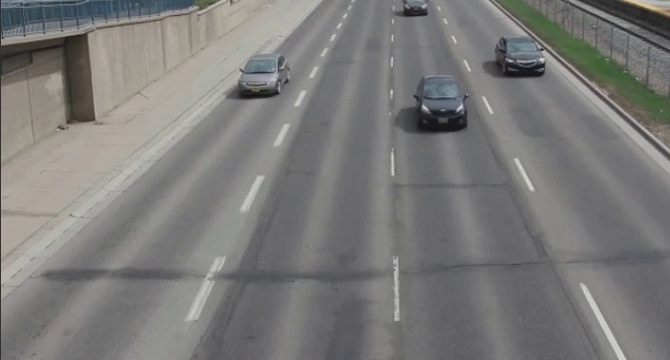car: (414, 75, 469, 133), (496, 36, 547, 80), (238, 54, 289, 98)
